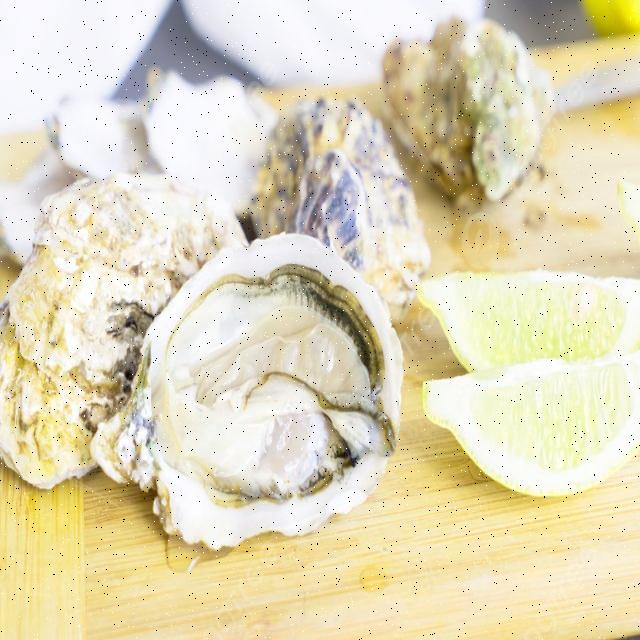Oyster-Closed: (0, 160, 258, 524), (237, 78, 447, 333), (131, 50, 286, 229), (450, 6, 569, 226), (374, 12, 489, 213), (31, 84, 165, 185), (0, 140, 83, 282)
Oyster-Open: (77, 212, 415, 563)
